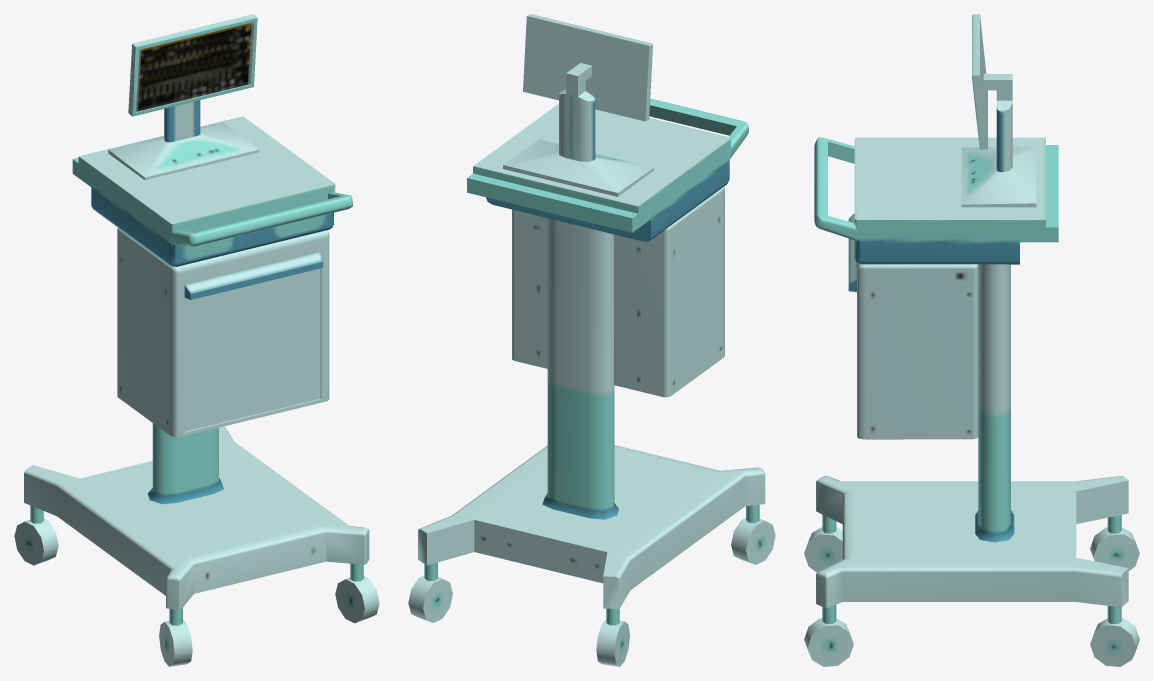
File: computer_cart.0456136599.glb
3 views of the same model, side by side, from view 1: azimuth 30°, elevation 25°; view 2: azimuth 150°, elevation 25°; view 3: azimuth 270°, elevation 25° (orthographic). The views are drawn at different scales.
Parts seen in each view (by area): view 1: computer_cart; view 2: computer_cart; view 3: computer_cart.
Boxes of the visible parts, left/top/right/bottom form: computer_cart: left=14, top=14, right=379, bottom=666; computer_cart: left=408, top=14, right=775, bottom=666; computer_cart: left=804, top=14, right=1139, bottom=666.
Bounding box in the file's own units: 0.573 × 1.49 × 0.7922.
1 material, 1 textured.
